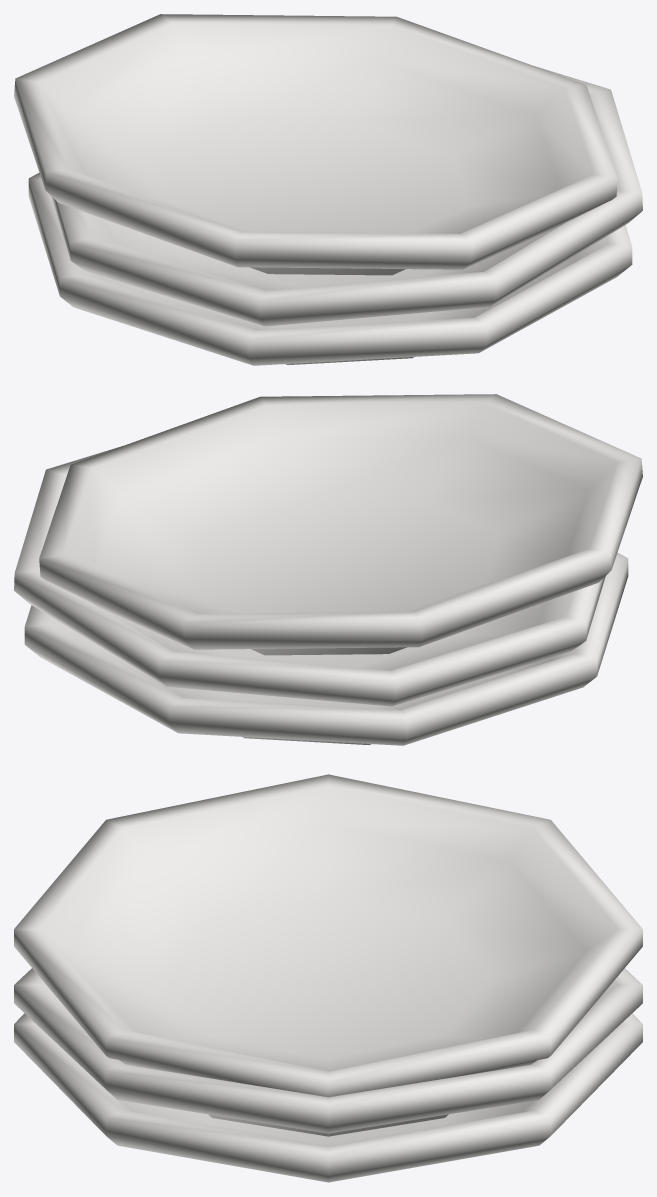
File: urp 2.fbx
3 renders of one model, top to bottom at view 1: azimuth 30°, elevation 25°; view 2: azimuth 150°, elevation 25°; view 3: azimuth 270°, elevation 25°, orthographic.
Parts seen in each view (by area): view 1: urp 2; view 2: urp 2; view 3: urp 2.
Part boxes in pixels (left/top/right/bottom): urp 2: left=14, top=14, right=642, bottom=365; urp 2: left=14, top=394, right=642, bottom=745; urp 2: left=14, top=774, right=642, bottom=1182.
Bounding box in the file's own units: 76.04 × 25.07 × 72.68.
